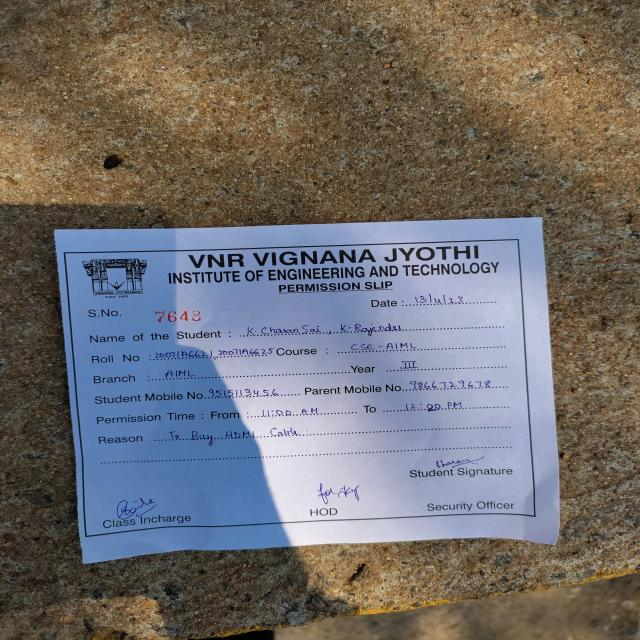paper: (53, 214, 560, 555)
